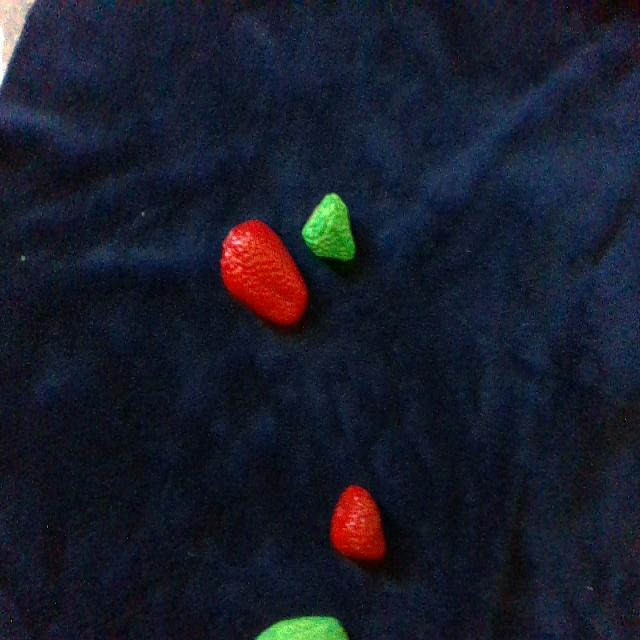chica_roja: (331, 485, 385, 560)
grande_roja: (221, 220, 307, 324)
verde: (302, 193, 355, 260), (255, 616, 349, 639)
